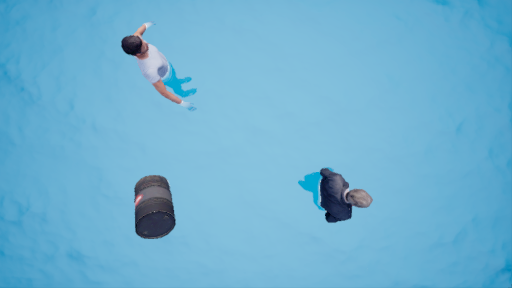person: (122, 26, 213, 124), (299, 165, 373, 228)
